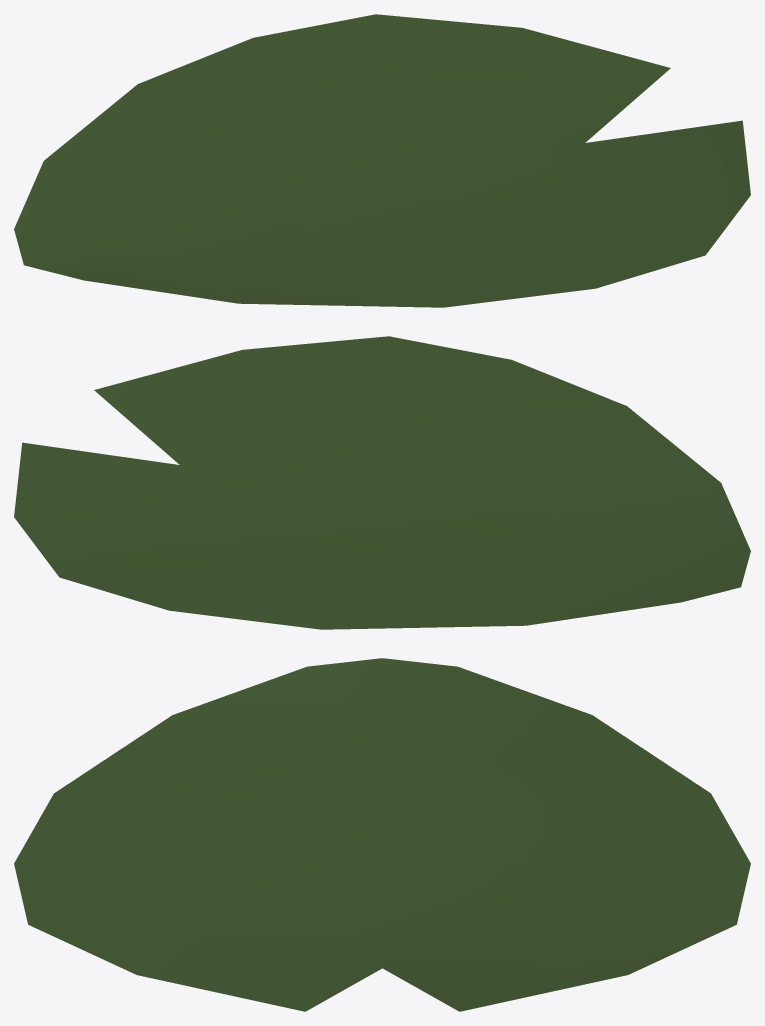
Rendered from Water Lily.fbx.
The picture shows the model from 3 angles, top to bottom: view 1: azimuth 30°, elevation 25°; view 2: azimuth 150°, elevation 25°; view 3: azimuth 270°, elevation 25°; orthographic projection. The views are drawn at different scales.
Parts seen in each view (by area): view 1: Water_Lily; view 2: Water_Lily; view 3: Water_Lily.
Boxes of the visible parts, x1,y1,x2,y2 form: Water_Lily: (14, 14, 750, 307); Water_Lily: (14, 336, 750, 629); Water_Lily: (14, 658, 750, 1011).
Size of the model in its own units: 3.13 by 0.0832 by 2.72.
